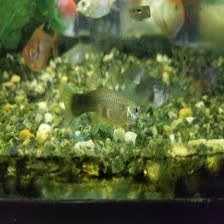Cuezo: (118, 0, 184, 44)
Guppy: (53, 76, 144, 133), (127, 68, 175, 107), (78, 0, 122, 17)
Transparente: (18, 14, 61, 80)
